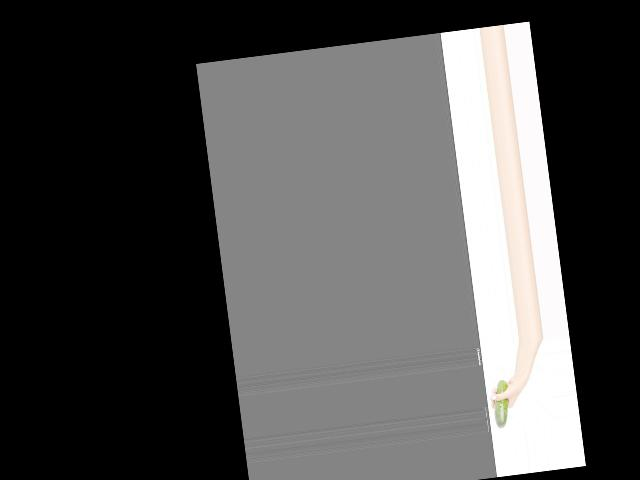cucumber: (490, 380, 512, 429)
